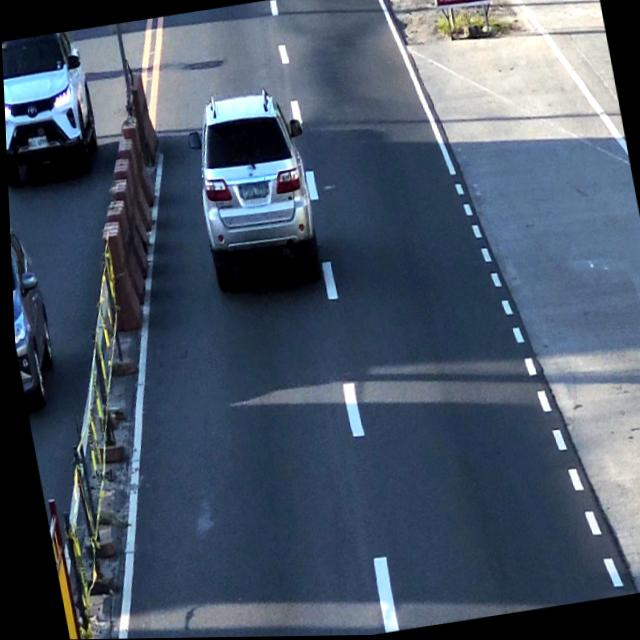Car: (176, 88, 322, 285)
License-Plate: (237, 179, 270, 209)
